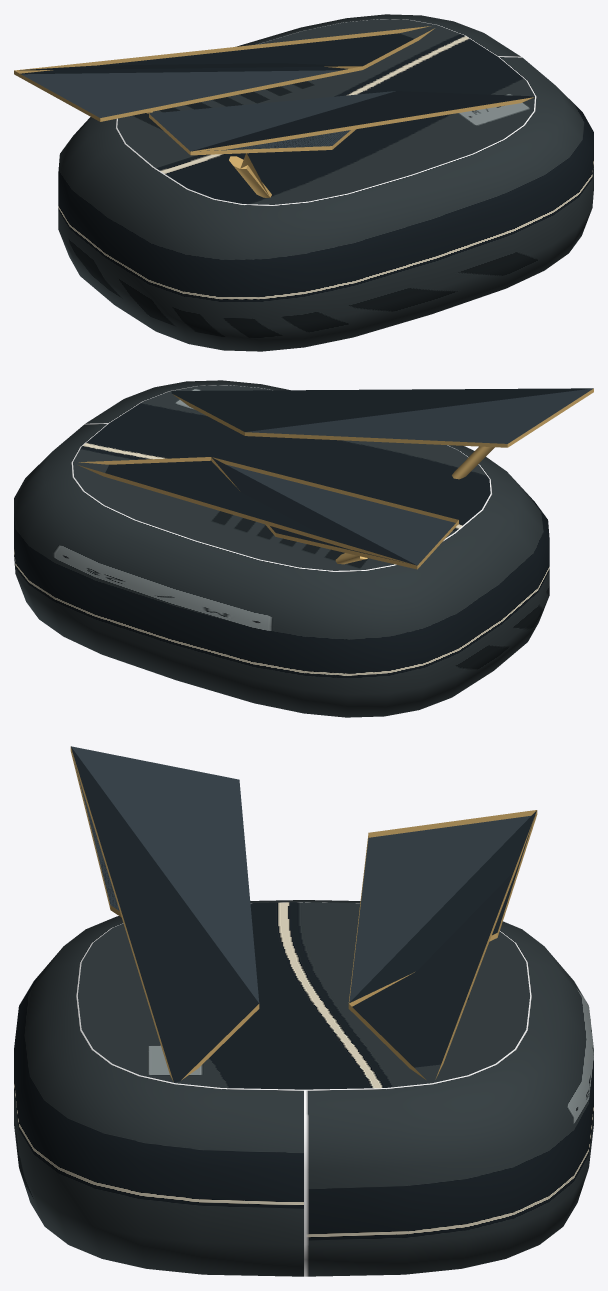
Rendered from MotorCowl_28_UR_黒漆・本金縁.glb.
3 views of the same model, one above another, from view 1: azimuth 30°, elevation 25°; view 2: azimuth 150°, elevation 25°; view 3: azimuth 270°, elevation 25° (orthographic). The views are drawn at different scales.
Parts seen in each view (by area): view 1: MotorCowl_28_UR; view 2: MotorCowl_28_UR; view 3: MotorCowl_28_UR.
Boxes of the visible parts, x1=… form: MotorCowl_28_UR: x1=14, y1=14, x2=593, y2=351; MotorCowl_28_UR: x1=14, y1=380, x2=593, y2=717; MotorCowl_28_UR: x1=14, y1=746, x2=593, y2=1276.
Bounding box in the file's own units: 0.3344 × 0.1668 × 0.286.
2 materials, 2 textured.
